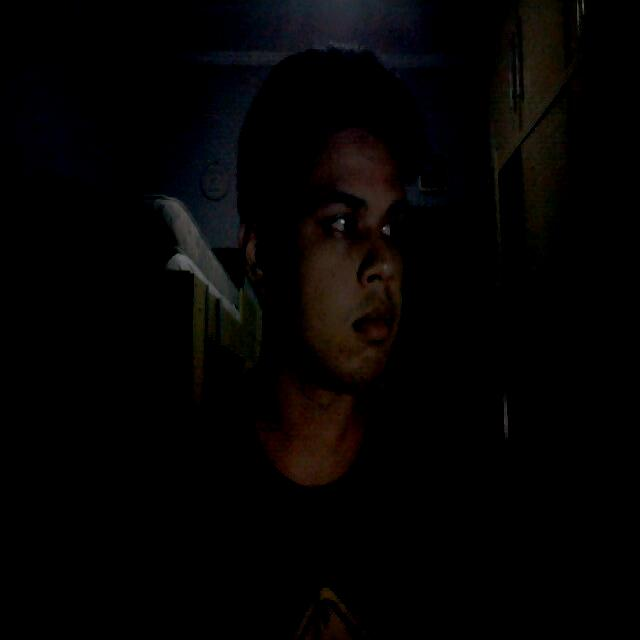acordado: (269, 137, 411, 390)
